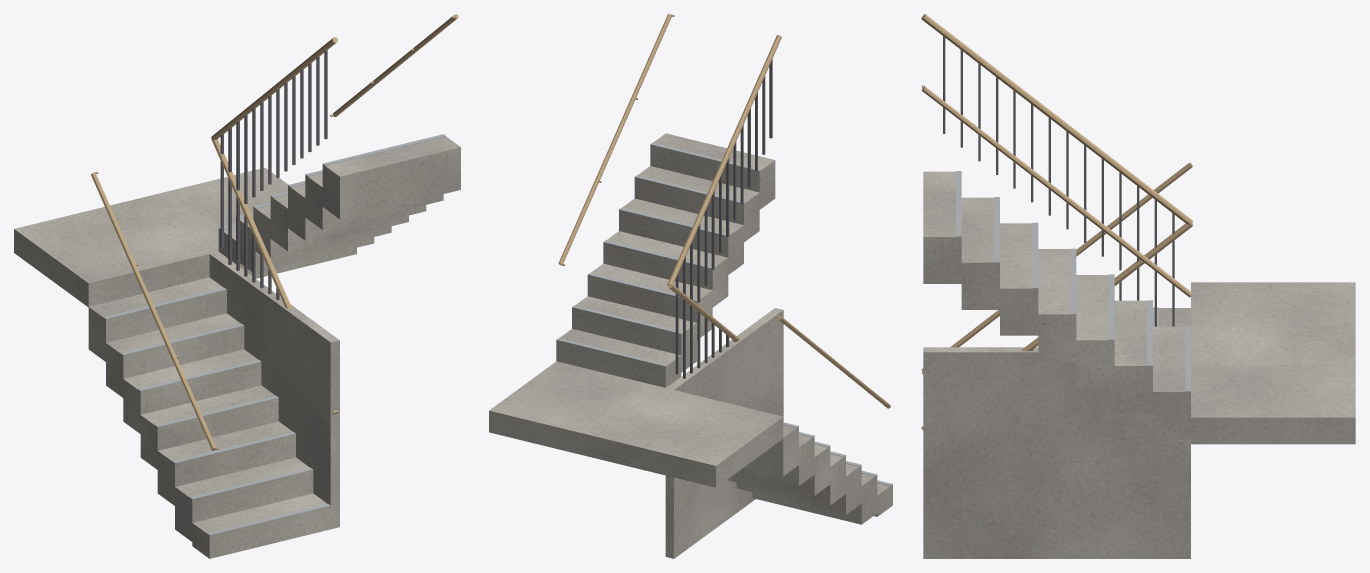
File: stair.glb
3 renders of one model, left to right at view 1: azimuth 30°, elevation 25°; view 2: azimuth 150°, elevation 25°; view 3: azimuth 270°, elevation 25°, orthographic. The views are drawn at different scales.
Visible parts, largest first — view 1: stair_concrete, stair_iron, stair_bronze, stair_metal; view 2: stair_concrete, stair_iron, stair_bronze, stair_metal; view 3: stair_concrete, stair_bronze, stair_iron, stair_metal.
Part boxes in pixels (box(x1,y1,x2,y2)): stair_concrete: box(14, 136, 460, 558); stair_iron: box(220, 50, 327, 299); stair_bronze: box(91, 14, 458, 450); stair_metal: box(103, 134, 446, 535); stair_concrete: box(489, 133, 892, 558); stair_iron: box(675, 59, 772, 378); stair_bronze: box(558, 14, 890, 408); stair_metal: box(556, 142, 892, 485); stair_concrete: box(923, 171, 1355, 558); stair_bronze: box(921, 14, 1193, 430); stair_iron: box(943, 36, 1174, 350); stair_metal: box(956, 171, 1190, 391).
Size of the model in its own units: 2.18 by 4.07 by 2.96.
Materials: 4 (1 with a texture image).
